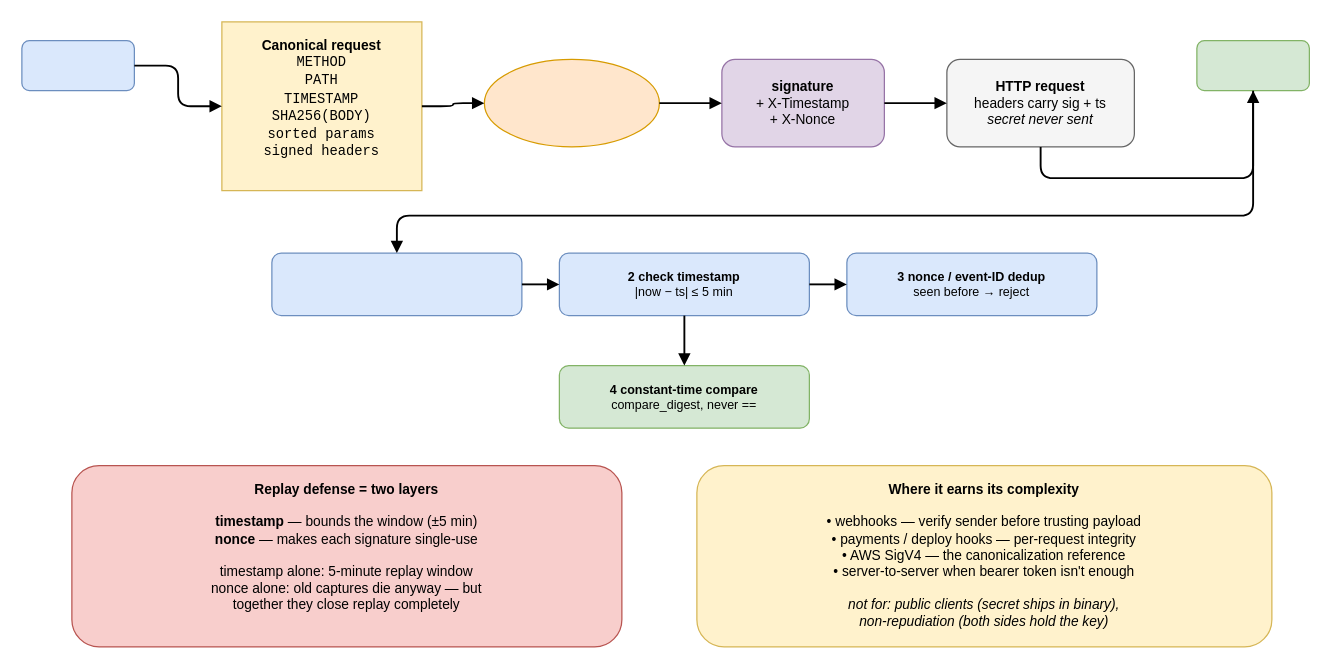
This 1331x669 diagram has some shape labels left out. Each missing label, with the centre of its shape:
1 recompute canonical string same fields, same order: (x=396, y=284)
Client: (x=77, y=65)
HMAC-SHA256 key = shared secret: (x=571, y=102)
Server: (x=1252, y=65)
